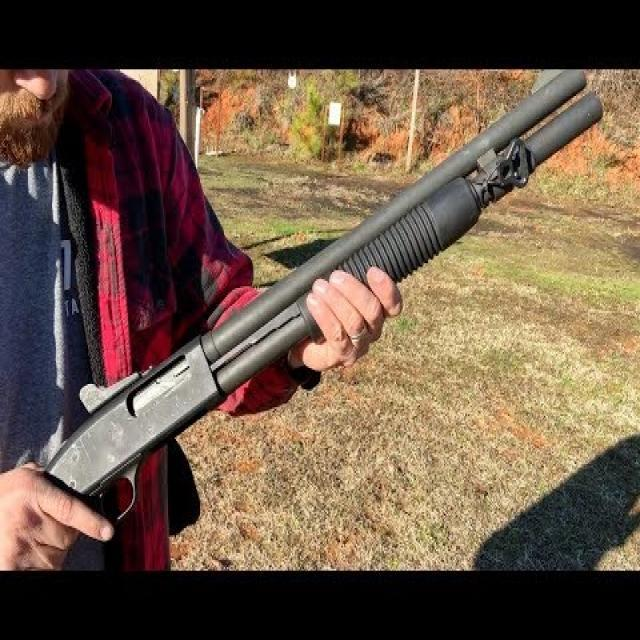shotgun: (0, 69, 640, 543)
